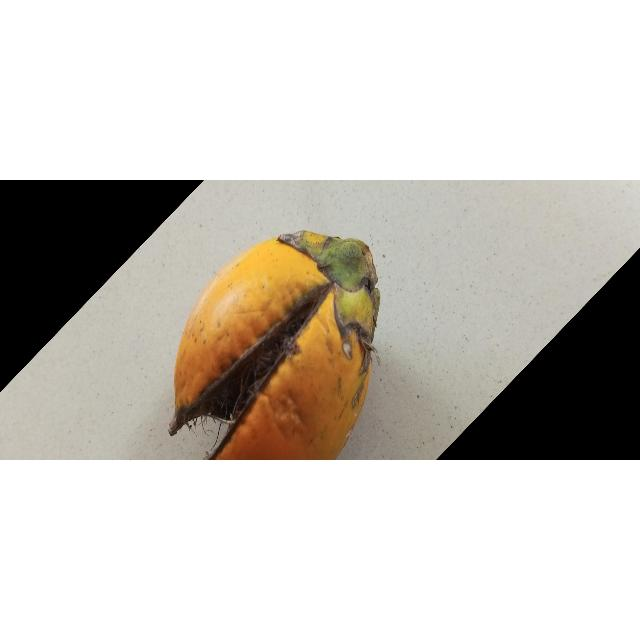damaged: (169, 232, 380, 461)
